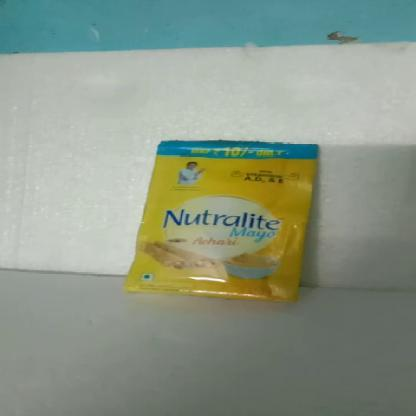Nutralite ACHARI MAYO 30g: (155, 141, 308, 290)
